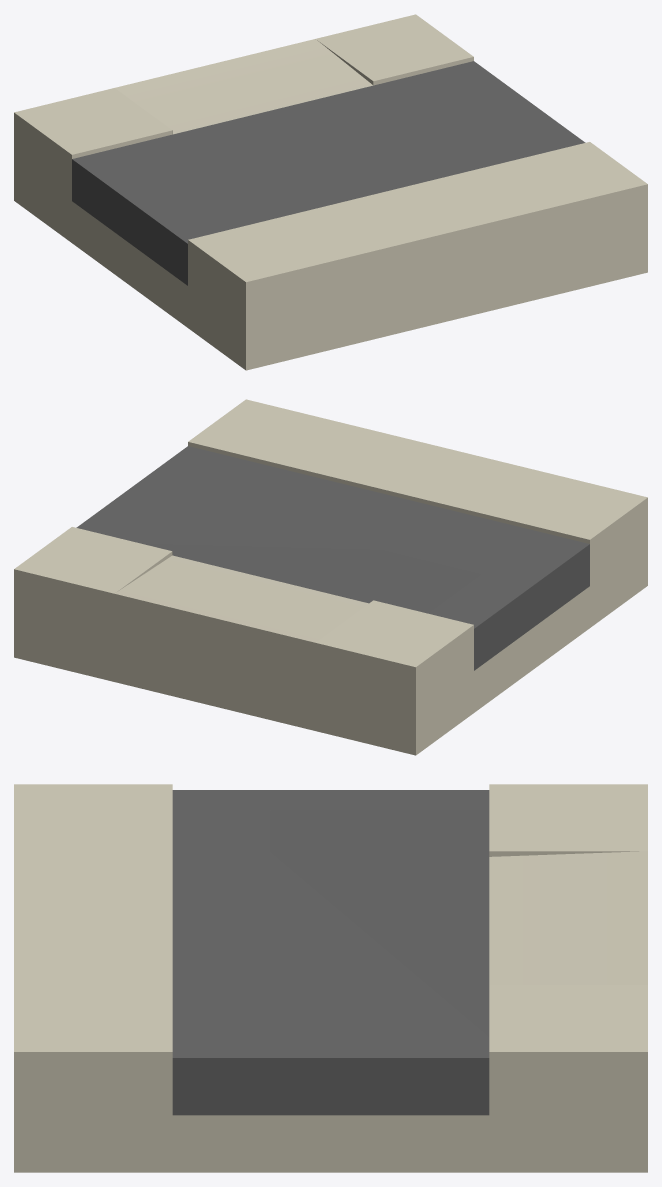
The model's file is road-one-way-stone-thick.obj.
The picture shows the model from 3 angles, top to bottom: view 1: azimuth 30°, elevation 25°; view 2: azimuth 150°, elevation 25°; view 3: azimuth 270°, elevation 25°; orthographic projection. The views are drawn at different scales.
Visible parts, largest first — view 1: Mesh1_Group1_Model.291; view 2: Mesh1_Group1_Model.291; view 3: Mesh1_Group1_Model.291.
Part boxes in pixels (left/top/right/bottom): Mesh1_Group1_Model.291: left=14, top=14, right=647, bottom=370; Mesh1_Group1_Model.291: left=14, top=399, right=647, bottom=755; Mesh1_Group1_Model.291: left=14, top=784, right=647, bottom=1172.
Bounding box in the file's own units: 3 × 0.63 × 3.
